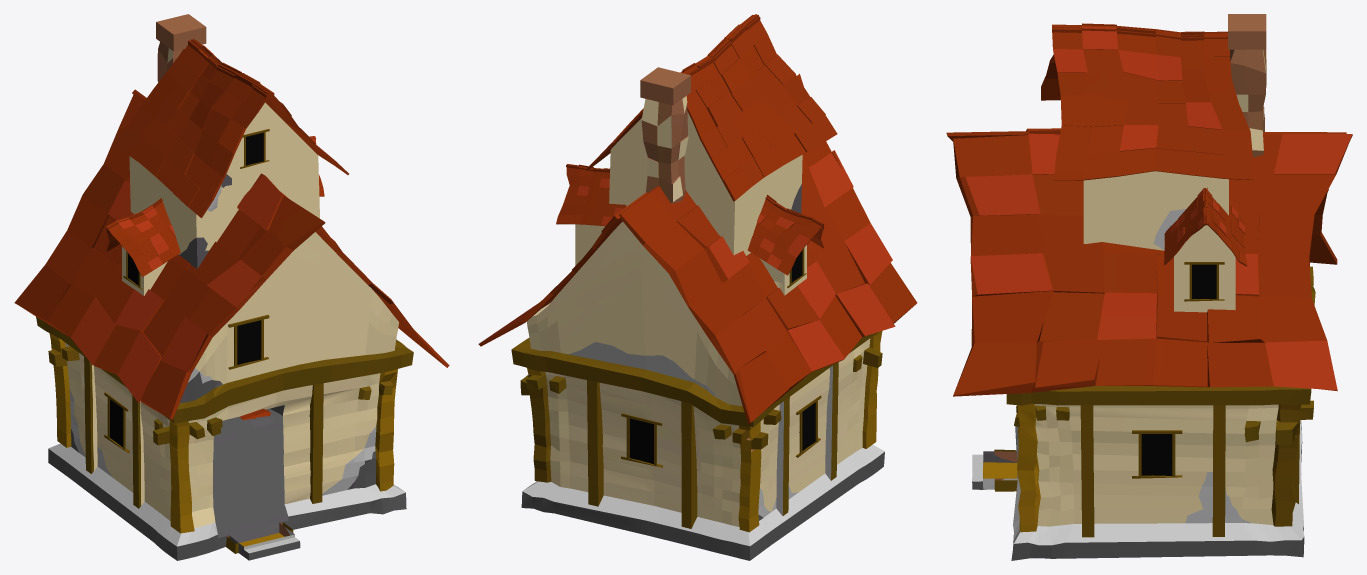
Rendered from red_cottage.glb.
The picture shows the model from 3 angles, left to right: view 1: azimuth 30°, elevation 25°; view 2: azimuth 150°, elevation 25°; view 3: azimuth 270°, elevation 25°; orthographic projection. The views are drawn at different scales.
Parts seen in each view (by area): view 1: walls, roof, upper; view 2: roof, walls, upper; view 3: roof, walls, upper.
Boxes of the visible parts, x1,y1,x2,y2 form: walls: [36, 315, 413, 560]; roof: [14, 14, 449, 419]; upper: [122, 102, 398, 402]; roof: [478, 14, 917, 424]; walls: [511, 331, 884, 560]; upper: [526, 112, 806, 405]; roof: [946, 14, 1352, 396]; walls: [972, 266, 1315, 560]; upper: [1083, 171, 1315, 312].
Size of the model in its own units: 5.84 by 8.77 by 6.79.
Materials: 1 (1 with a texture image).
